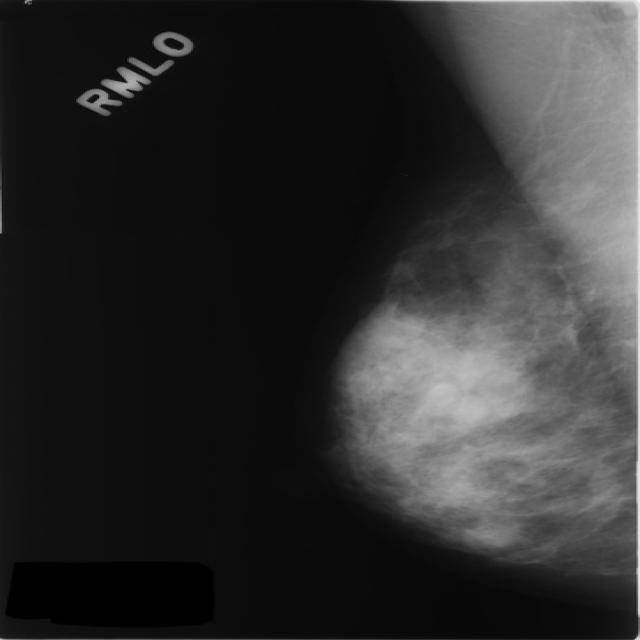tumour: (423, 366, 525, 418)
